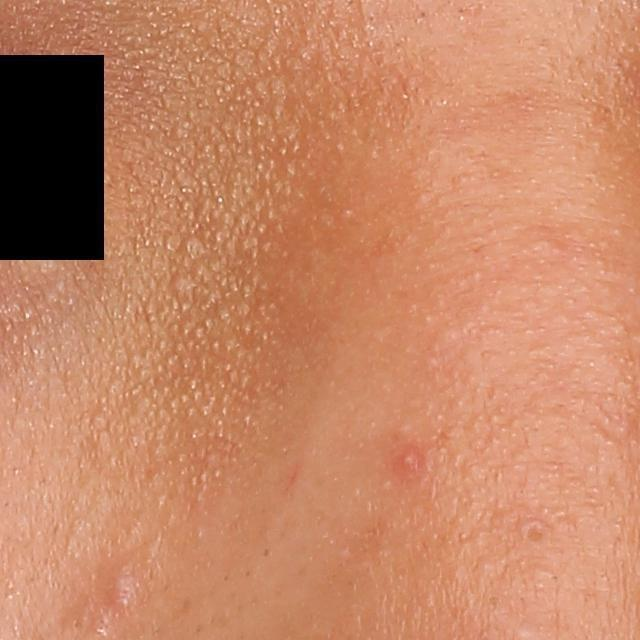comedo: (169, 272, 196, 295), (522, 519, 546, 544)
papule: (95, 561, 142, 614)
